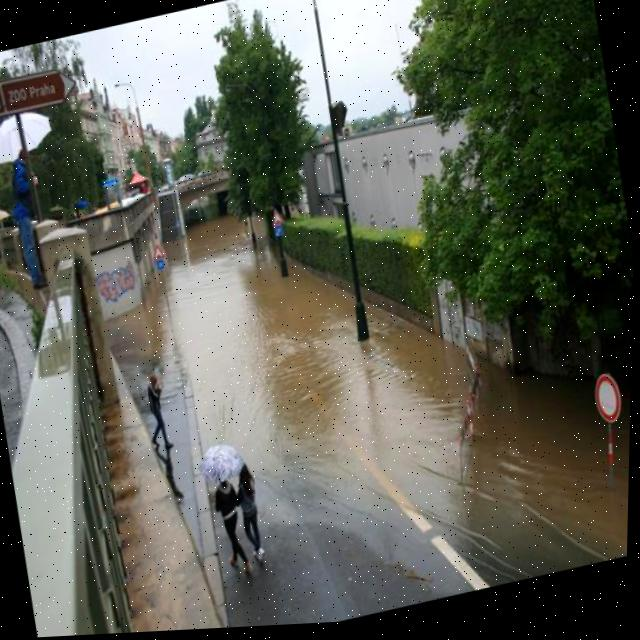civilian: (0, 144, 59, 301), (227, 438, 288, 580), (198, 459, 259, 591), (126, 353, 192, 467)
